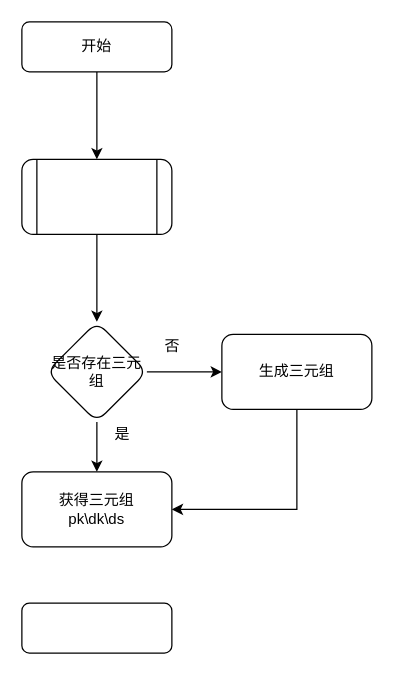
This 394x675 diagram has some shape labels left out. The centre of each missing label's shape, as x and y in pixels:
"结束" belongs at (96,627).
"设备信息入库流程" belongs at (96,196).
